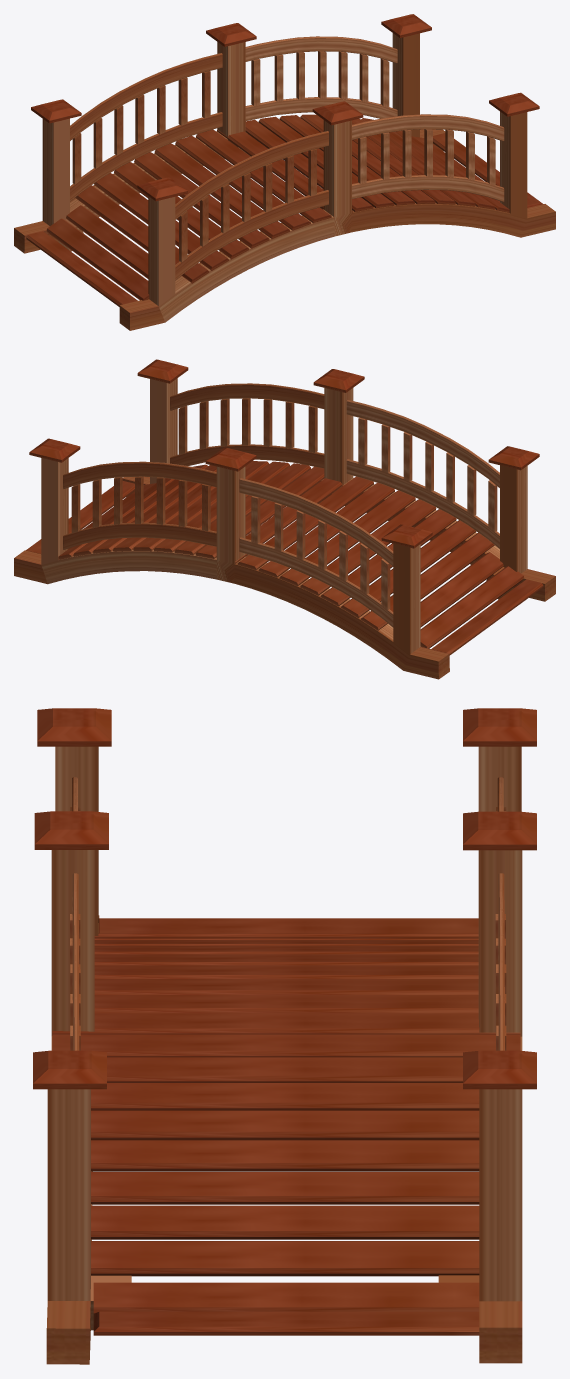
File: bridge.glb
3 views of the same model, one above another, from view 1: azimuth 30°, elevation 25°; view 2: azimuth 150°, elevation 25°; view 3: azimuth 270°, elevation 25° (orthographic). The views are drawn at different scales.
Visible parts, largest first — view 1: pCube62_lambert2_0; view 2: pCube62_lambert2_0; view 3: pCube62_lambert2_0.
Boxes of the visible parts, box(x1,y1,x2,y2) form: pCube62_lambert2_0: box(14, 14, 555, 330); pCube62_lambert2_0: box(14, 359, 555, 679); pCube62_lambert2_0: box(33, 708, 536, 1364).
Bounding box in the file's own units: 22.78 × 8.65 × 11.73.
1 material, 1 textured.
